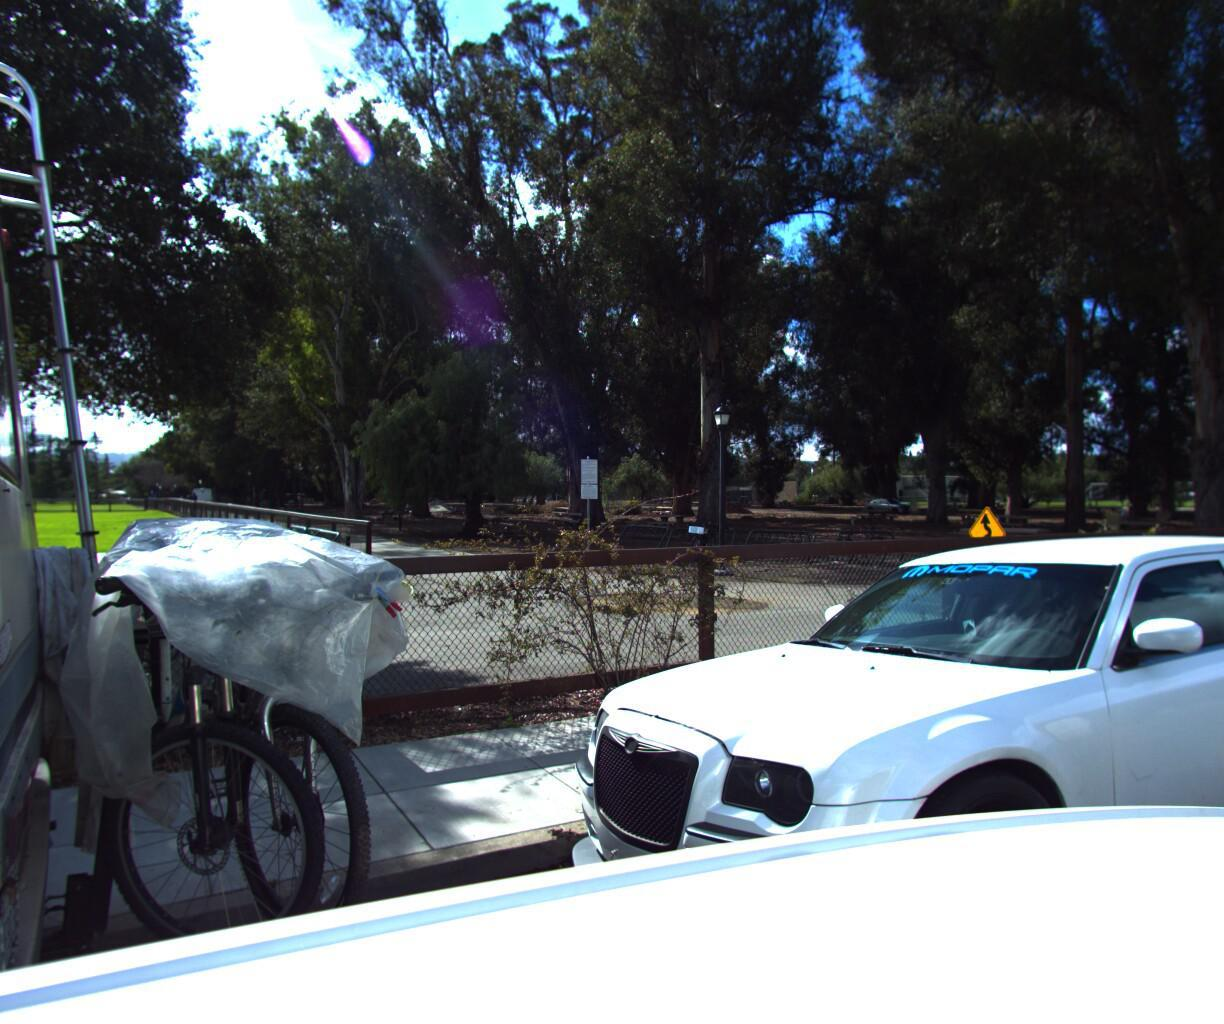car: (521, 521, 1224, 1024)
